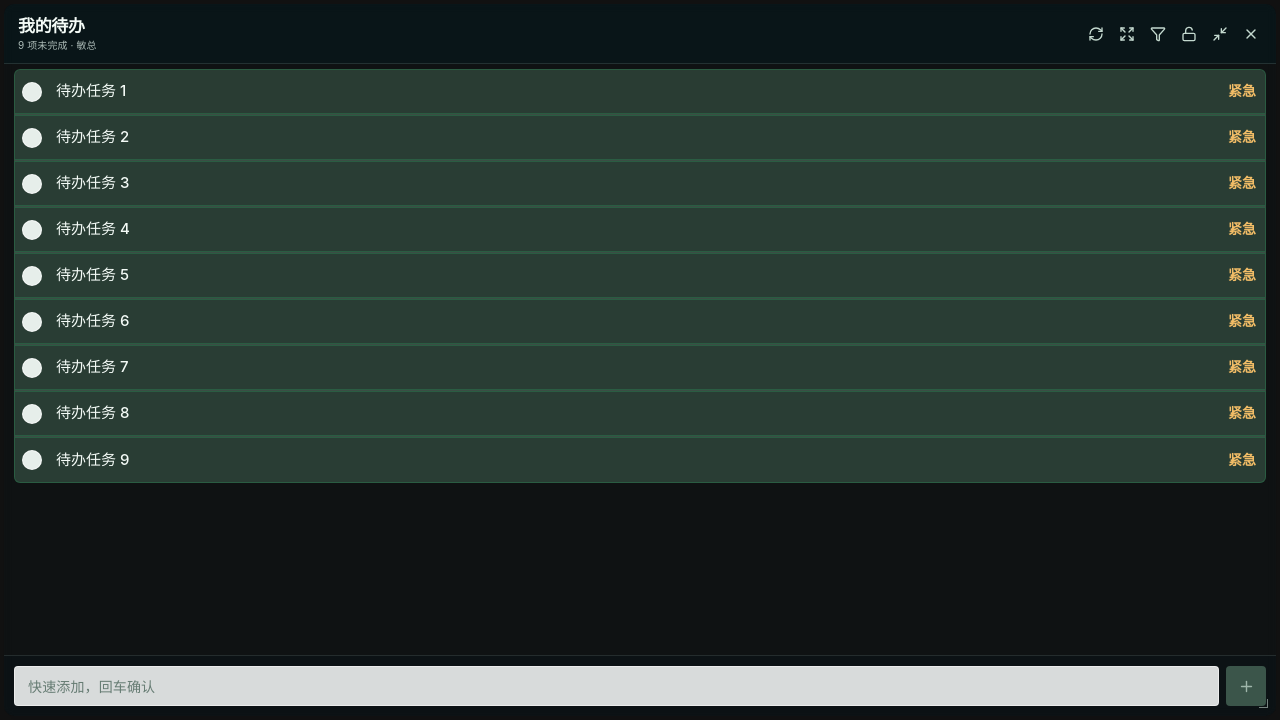
桌面任务挂件 › 展示全部任务并支持锁定和收起挂件
expect the text "待办任务 9" is shown: met, box [56, 450, 130, 470]
Click the button named "锁定位置". click: (1189, 34)
box: [1175, 20, 1203, 48]
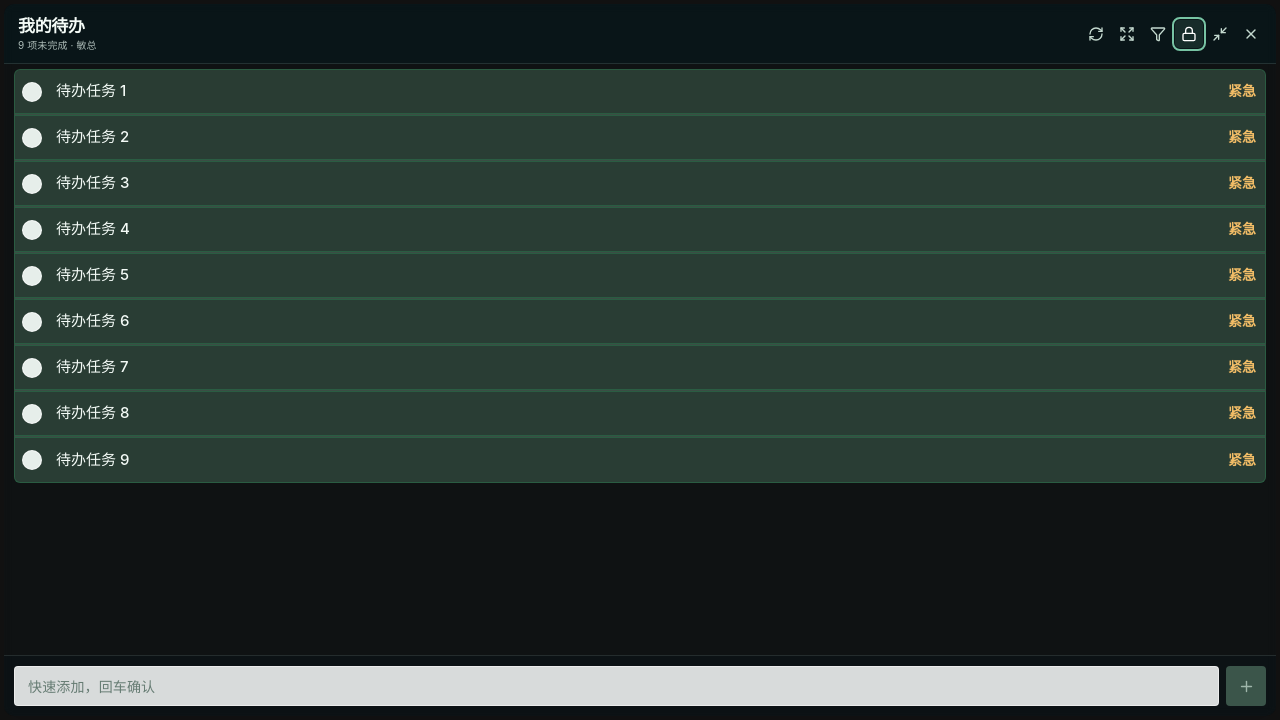
Click the button named "收起挂件". click: (1220, 34)
box: [1206, 20, 1234, 48]
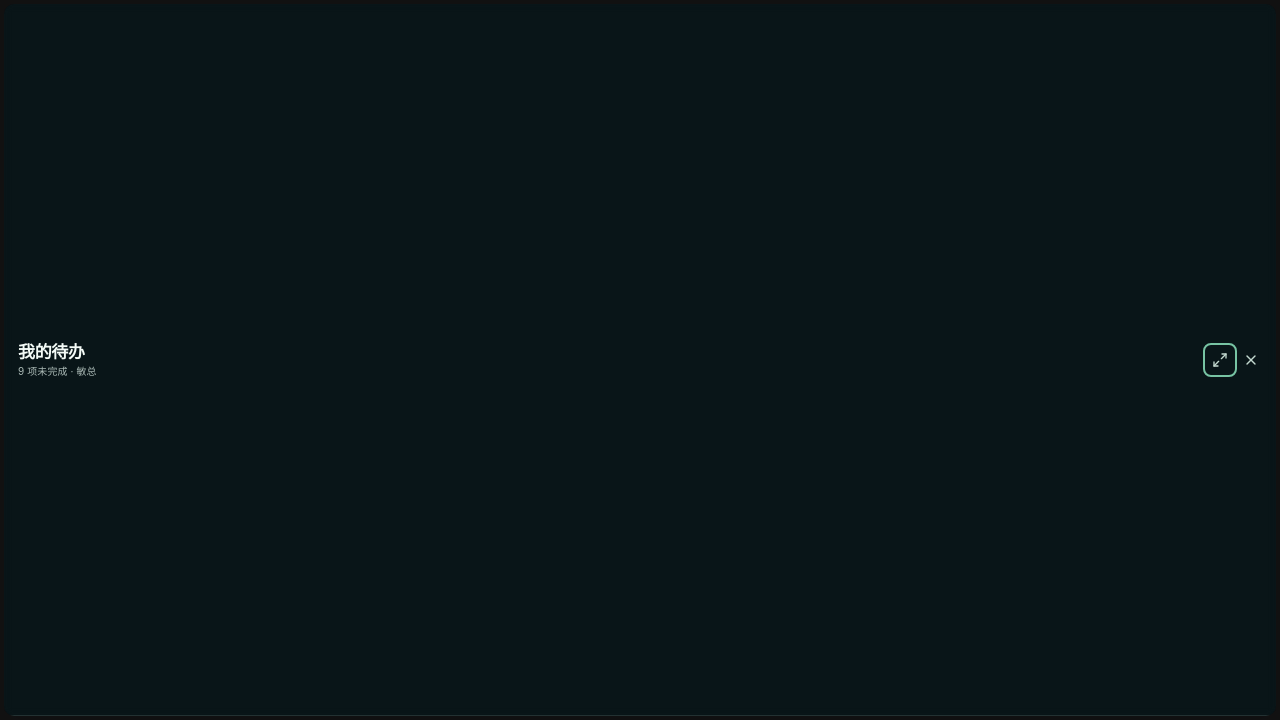
expect the button named "展开挂件" is shown: met, box [1206, 346, 1234, 374]
